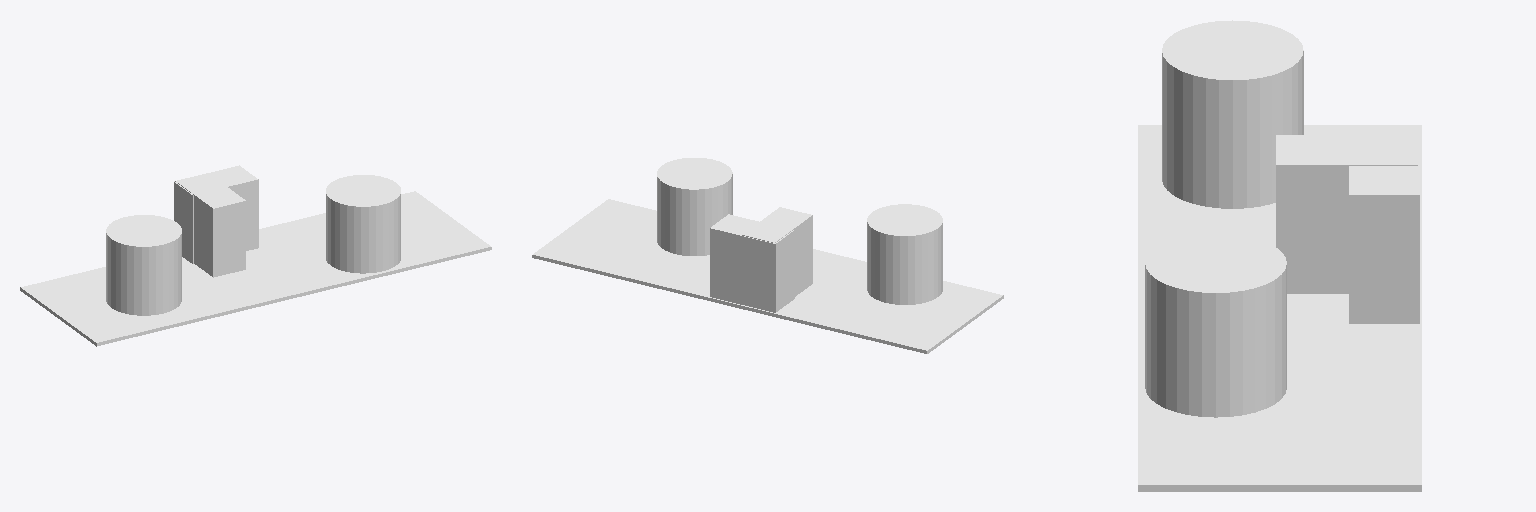
robot.urdf — stair_bauzil:
<robot name="stair_bauzil">
  <link name="base_link">
    <visual>
      <origin xyz="0 0 0" rpy="0 0 0" />
      <geometry>
        <mesh filename="package://hpp-rbprm-corba/meshes/slalom.stl"/>
      </geometry>
      <material name="white">
        <color rgba="1 1 1 1"/>
      </material>
    </visual>
    <collision>
      <origin xyz="0 0 0" rpy="0 0 0" />
      <geometry>
        <mesh filename="package://hpp-rbprm-corba/meshes/slalom.stl"/>
      </geometry>
    </collision>
  </link>
</robot>

--- Facts derived from the render (not from the file) ---
Views: 3 orthographic renders of the robot side by side, from view 1: azimuth 30°, elevation 25°; view 2: azimuth 150°, elevation 25°; view 3: azimuth 270°, elevation 25°.
Model stair_bauzil with 1 links and 0 joints (none), rooted at base_link, posed every joint at zero.
Visible links, largest first — view 1: base_link; view 2: base_link; view 3: base_link.
Link boxes in pixels (x1=…): base_link: x1=20, y1=165, x2=491, y2=346; base_link: x1=532, y1=158, x2=1003, y2=353; base_link: x1=1138, y1=20, x2=1421, y2=491.
Size in the robot's own frame: 12 by 4 by 2.3 metres.
Meshes: 1 distinct files referenced, 1 mesh visuals loaded (1 binary STL).